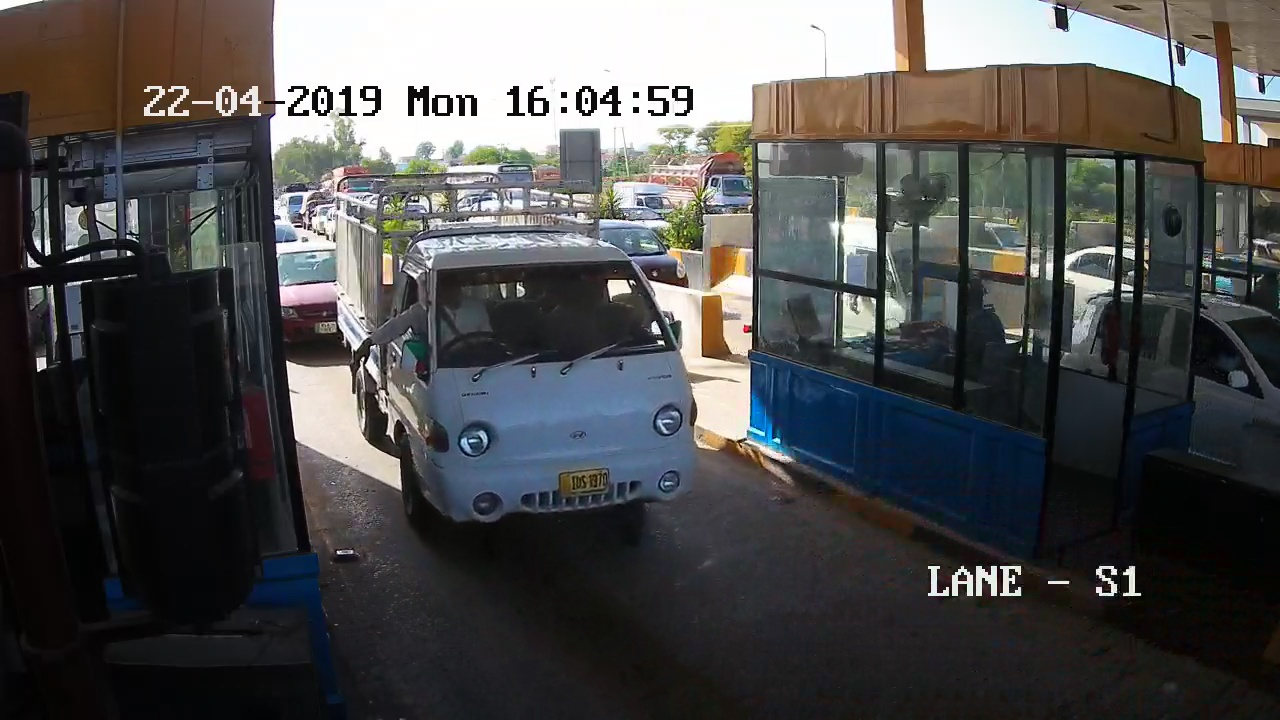Number Plate (Car): (557, 469, 609, 494), (314, 321, 336, 334)
